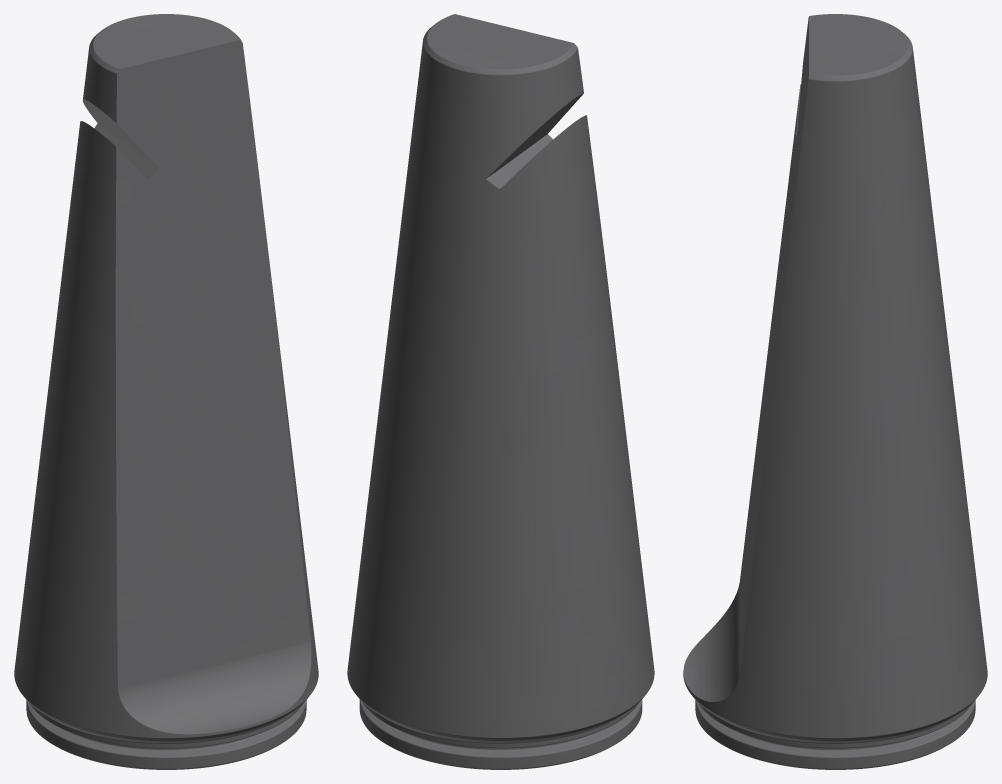
Rendered from bishop-black-hd.glb.
3 renders of one model, left to right at view 1: azimuth 30°, elevation 25°; view 2: azimuth 150°, elevation 25°; view 3: azimuth 270°, elevation 25°, orthographic.
Visible parts, largest first — view 1: 03_strelec_cerna; view 2: 03_strelec_cerna; view 3: 03_strelec_cerna.
Boxes of the visible parts, x1=… form: 03_strelec_cerna: x1=14, y1=14, x2=318, y2=769; 03_strelec_cerna: x1=347, y1=14, x2=654, y2=769; 03_strelec_cerna: x1=683, y1=14, x2=987, y2=769.
Bounding box in the file's own units: 0.5622 × 1.36 × 0.5622.
Materials: 1 (1 with a texture image).
